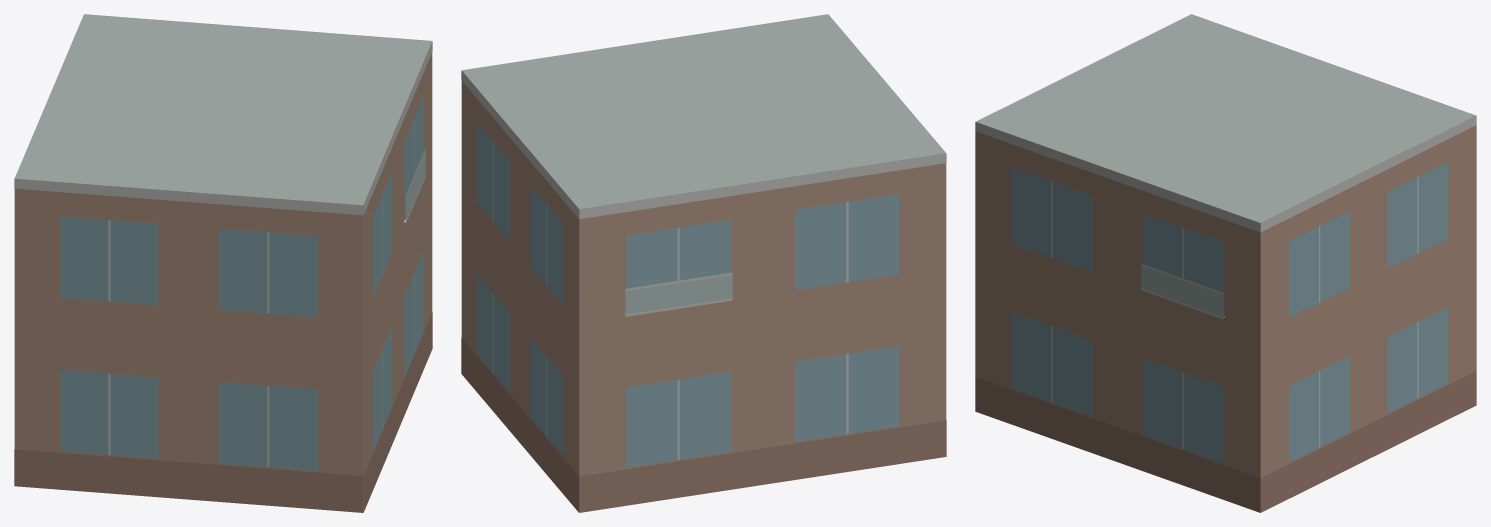
The model's file is survey-upis-32925572.glb.
3 renders of one model, left to right at view 1: azimuth 30°, elevation 25°; view 2: azimuth 150°, elevation 25°; view 3: azimuth 270°, elevation 25°, orthographic. The views are drawn at different scales.
Parts seen in each view (by area): view 1: survey-upis-32925572.tmp; view 2: survey-upis-32925572.tmp; view 3: survey-upis-32925572.tmp.
Part boxes in pixels (bbox=[...]): survey-upis-32925572.tmp: bbox=[14, 14, 432, 512]; survey-upis-32925572.tmp: bbox=[461, 14, 946, 512]; survey-upis-32925572.tmp: bbox=[975, 14, 1476, 512].
Size of the model in its own units: 11.62 by 7.5 by 11.76.
